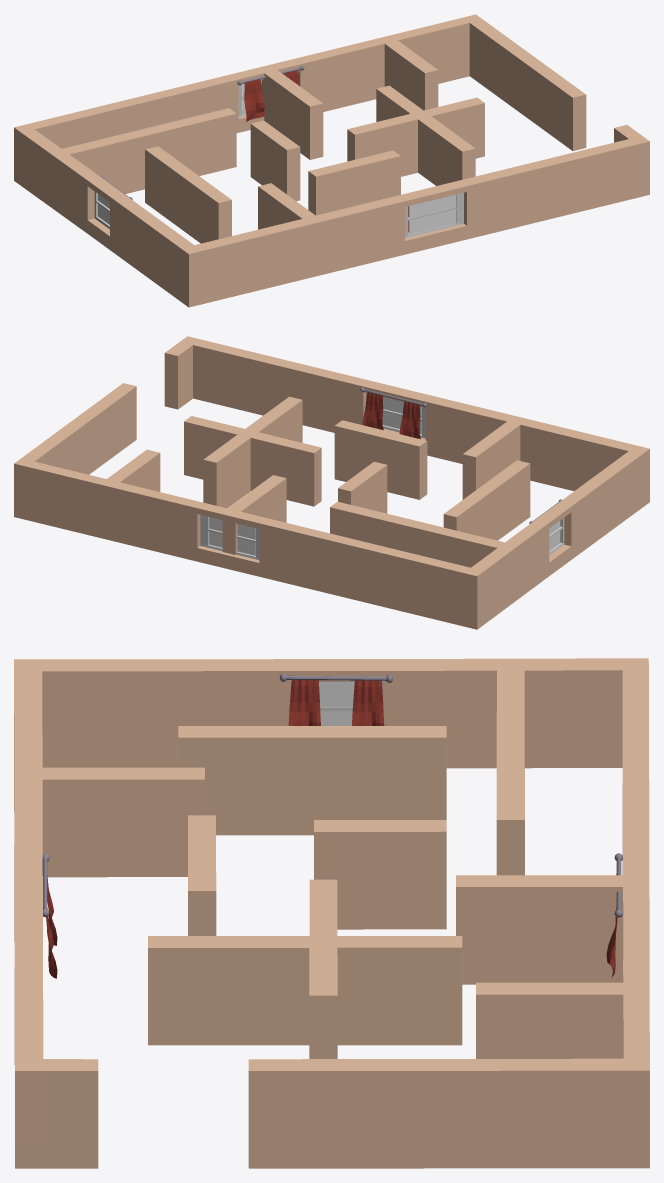
File: Level 6.fbx
The picture shows the model from 3 angles, top to bottom: view 1: azimuth 30°, elevation 25°; view 2: azimuth 150°, elevation 25°; view 3: azimuth 270°, elevation 25°; orthographic projection. The views are drawn at different scales.
Parts seen in each view (by area): view 1: polySurface78, pasted__wind1, polySurface50, pasted__pasted__clowt1; view 2: polySurface78, pasted__wind1, polySurface50, pasted__pasted__clowt1; view 3: polySurface78, pasted__pasted__clowt1, pasted__wind1.
Part boxes in pixels (left/top/right/bottom): polySurface78: left=14, top=14, right=649, bottom=307; pasted__wind1: left=405, top=192, right=463, bottom=238; polySurface50: left=237, top=66, right=304, bottom=121; pasted__pasted__clowt1: left=94, top=176, right=132, bottom=229; polySurface78: left=14, top=336, right=649, bottom=629; pasted__wind1: left=360, top=387, right=426, bottom=439; polySurface50: left=200, top=502, right=268, bottom=559; pasted__pasted__clowt1: left=529, top=499, right=564, bottom=555; polySurface78: left=14, top=658, right=649, bottom=1168; pasted__pasted__clowt1: left=279, top=673, right=392, bottom=725; pasted__wind1: left=42, top=853, right=57, bottom=978.
Bounding box in the file's own units: 154 × 16.93 × 99.98.
